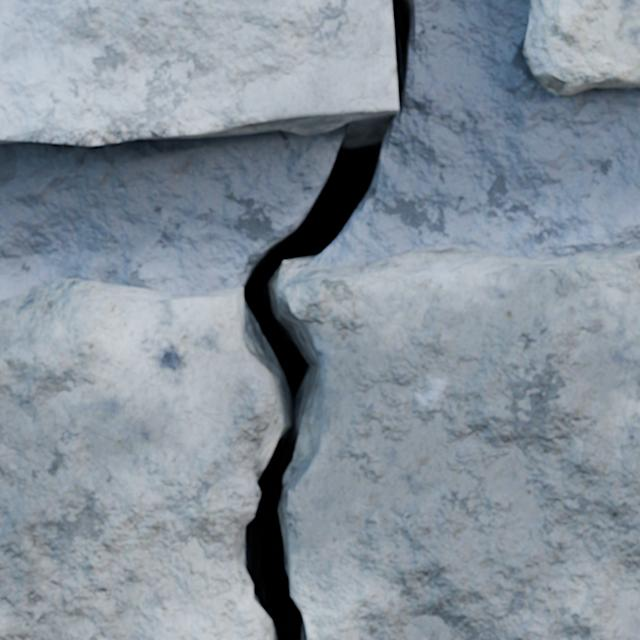broken_brick: (277, 241, 639, 639), (0, 279, 274, 639)
crack: (0, 0, 412, 639), (523, 0, 639, 96), (450, 279, 554, 287)
